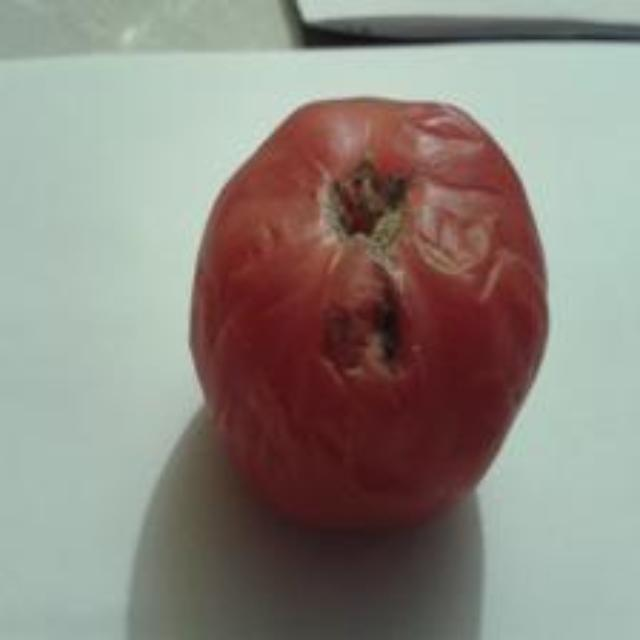defect: (180, 85, 556, 546)
